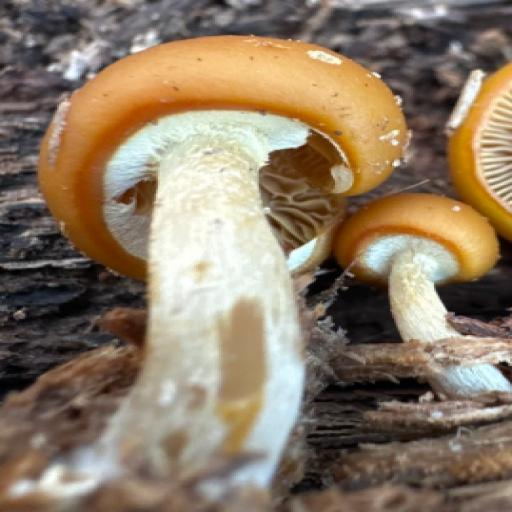mushroom: (28, 34, 512, 340)
